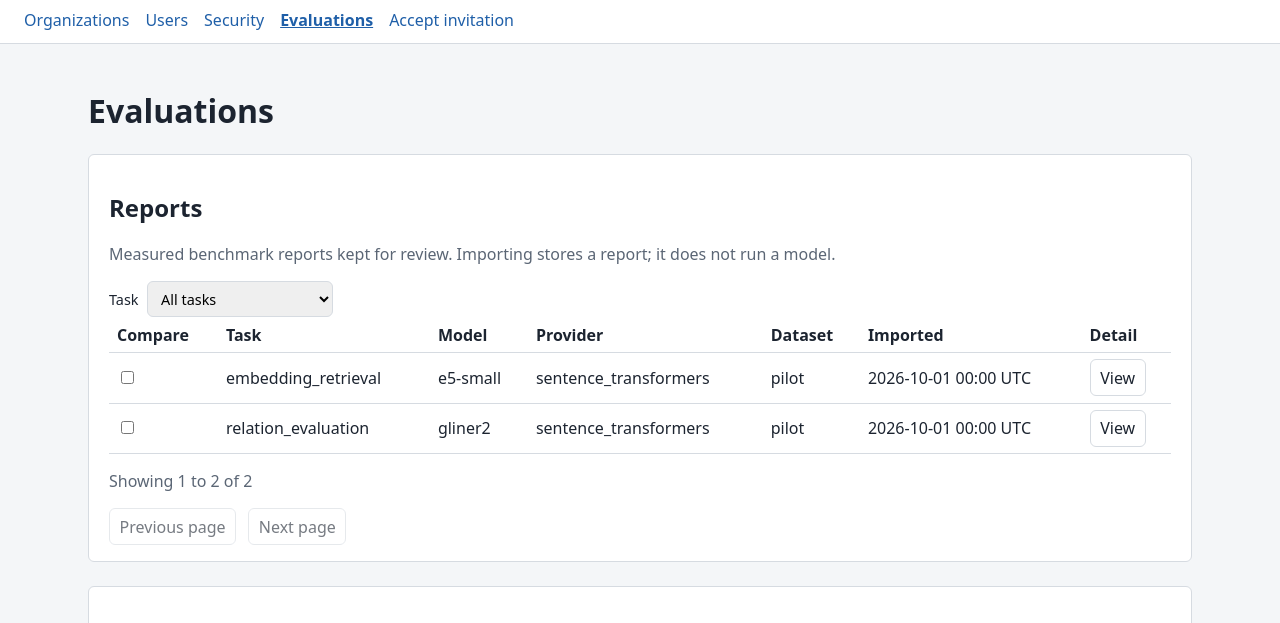
Test: evaluation workspace › shows a comparison refusal cleanly
Expected: the text "e5-small" is shown, top-left (430, 352), bottom-right (528, 403)
Click the checkbox named "Compare e5-small": (128, 377) top-left (121, 371), bottom-right (134, 384)
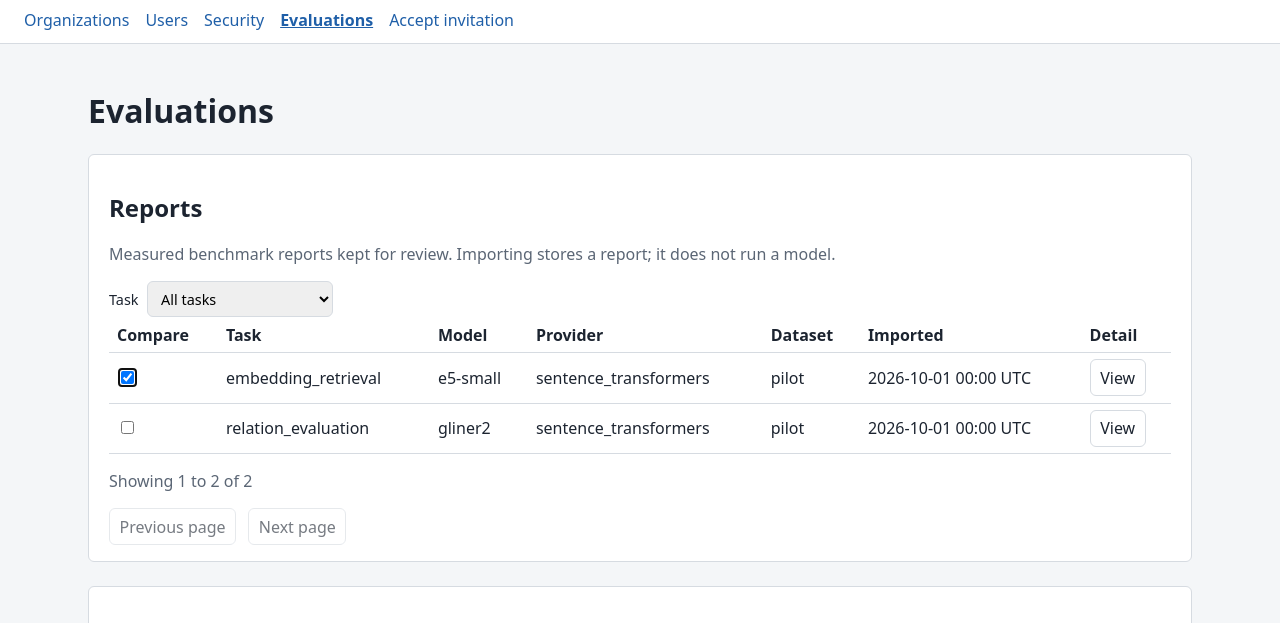
Click the checkbox named "Compare gliner2": (128, 428) top-left (121, 421), bottom-right (134, 434)
(page scrolled)
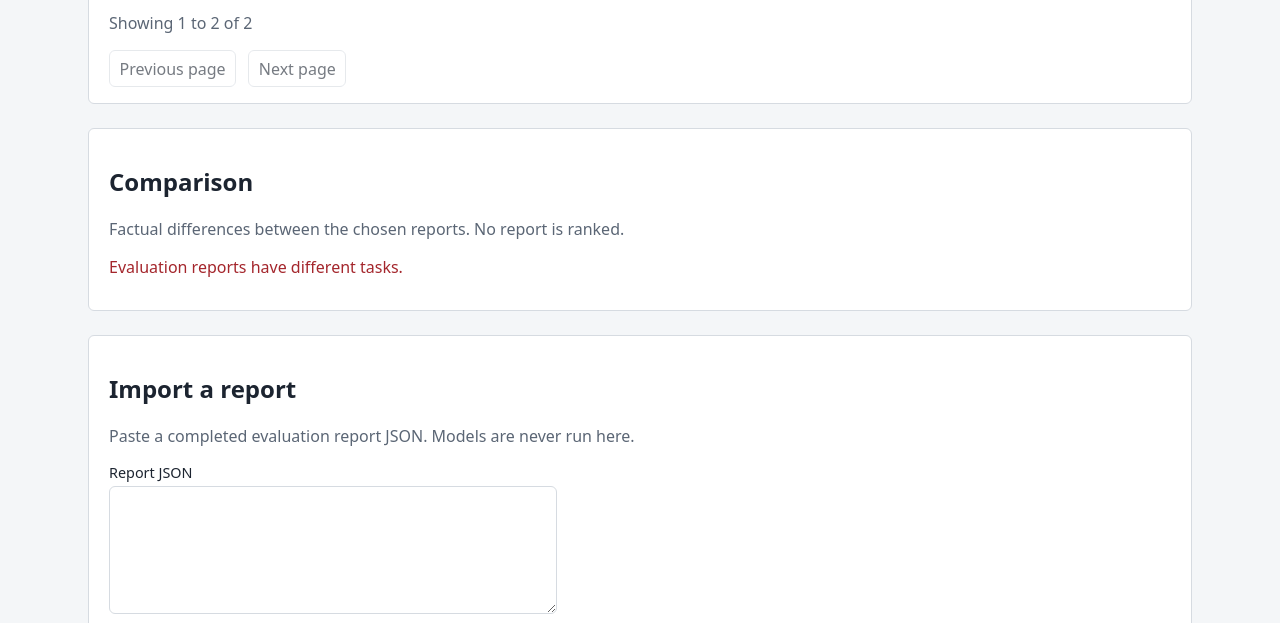
Expected: the message shows "different tasks", top-left (109, 256), bottom-right (403, 278)
